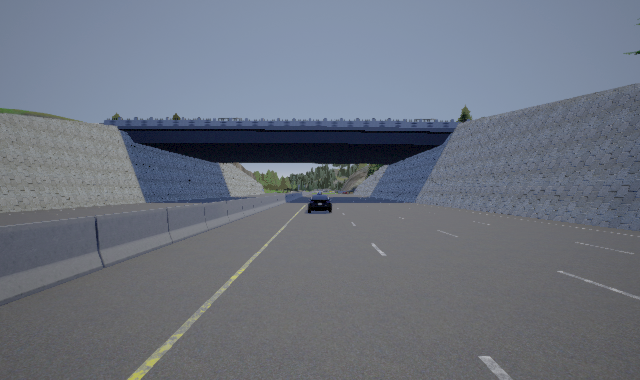vehicle: (308, 192, 332, 213)
